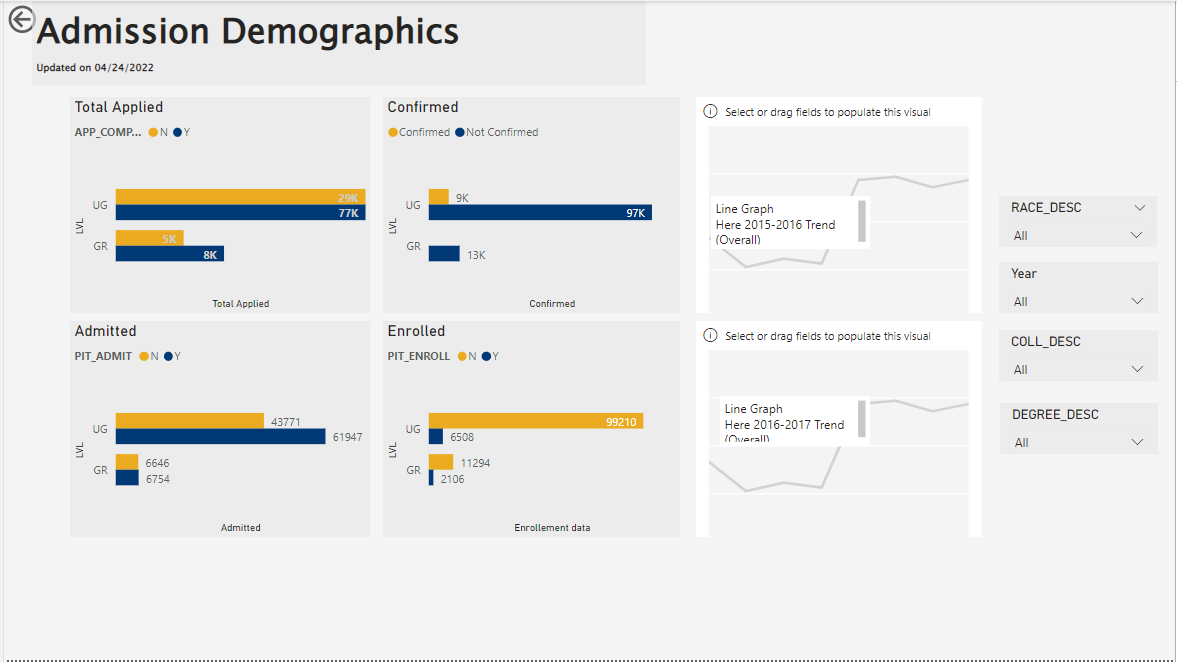

Layout of this report page (visuals, bound fields, positions):
{"tool":"powerbi","page":{"name":"Duplicate of Duplicate of Page 1","canvas":[1280,720],"ordinal":3},"visuals":[{"type":"card","title":"Total Applied","fields":{"Values":["CountNonNull(Dataset.APP_COMPLETE)"]},"box":[296.8,48.1,232.3,82.1],"z":0},{"type":"card","title":"Confirmed","fields":{"Values":["CountNonNull(Dataset.PIT_RESPONSE_DESC)"]},"box":[658.2,45.8,133.7,84.5],"z":1000},{"type":"card","title":"Enrolled","fields":{"Values":["CountNonNull(Dataset.PIT_ENROLL)"]},"box":[796.6,48.1,163.1,82.1],"z":2000},{"type":"slicer","fields":{"Values":["Dataset.APP_COMPLETE_DATE.Variation.Date Hierarchy.Year"]},"box":[998.4,154.9,281.6,82.1],"z":3000},{"type":"card","title":"Admitted","fields":{"Values":["CountNonNull(Dataset.APP_COMPLETE)"]},"box":[486.9,48.1,171.3,82.1],"z":4000},{"type":"clusteredBarChart","fields":{"Category":["Dataset.RACE_DESC"],"Y":["CountNonNull(Dataset.PIT_ENROLL)","CountNonNull(Dataset.APP_COMPLETE)"]},"box":[14.1,123.2,327.3,302.7],"z":6000},{"type":"slicer","fields":{"Values":["Dataset.RACE_DESC"]},"box":[990.2,245.2,281.6,91.5],"z":7000},{"type":"slicer","fields":{"Values":["Dataset.RESIDENCY"]},"box":[998.4,336.7,281.6,89.2],"z":8000},{"type":"slicer","fields":{"Values":["Dataset.FIRST_GEN_DESC"]},"box":[980.8,450.5,299.2,85.6],"z":9000},{"type":"clusteredBarChart","fields":{"Category":["Dataset.APP_COMPLETE_DATE.Variation.Date Hierarchy.Year"],"Y":["CountNonNull(Dataset.FIRST_GEN_DESC)"]},"box":[14.1,432.9,327.3,127.9],"z":10000},{"type":"clusteredBarChart","fields":{"Y":["CountNonNull(Dataset.RESIDENCY)"],"Category":["Dataset.APP_COMPLETE_DATE.Variation.Date Hierarchy.Year"]},"box":[14.1,560.8,327.3,150.2],"z":11000},{"type":"map","fields":{"Category":["Dataset.STATE"]},"box":[341.4,177.2,632.4,366],"z":12000},{"type":"actionButton","box":[14.1,123.2,327.3,54],"z":13000},{"type":"textbox","box":[0,0,279.2,59.8],"z":13001}]}

Visuals, with their boxes in screenshot pixels (x1, y1, x2, y2), scaled from the page's 1280x720 canvas onto the 1177x662 screenshot:
"Total Applied" card: {"x1": 273, "y1": 44, "x2": 487, "y2": 120}
"Confirmed" card: {"x1": 605, "y1": 42, "x2": 728, "y2": 120}
"Enrolled" card: {"x1": 732, "y1": 44, "x2": 882, "y2": 120}
slicer - Dataset.APP_COMPLETE_DATE.Variation.Date Hierarchy.Year: {"x1": 918, "y1": 142, "x2": 1176, "y2": 218}
"Admitted" card: {"x1": 448, "y1": 44, "x2": 605, "y2": 120}
clusteredBarChart - Dataset.RACE_DESC x CountNonNull(Dataset.PIT_ENROLL): {"x1": 13, "y1": 113, "x2": 314, "y2": 392}
slicer - Dataset.RACE_DESC: {"x1": 911, "y1": 225, "x2": 1169, "y2": 310}
slicer - Dataset.RESIDENCY: {"x1": 918, "y1": 310, "x2": 1176, "y2": 392}
slicer - Dataset.FIRST_GEN_DESC: {"x1": 902, "y1": 414, "x2": 1176, "y2": 493}
clusteredBarChart - Dataset.APP_COMPLETE_DATE.Variation.Date Hierarchy.Year x CountNonNull(Dataset.FIRST_GEN_DESC): {"x1": 13, "y1": 398, "x2": 314, "y2": 516}
clusteredBarChart - CountNonNull(Dataset.RESIDENCY) x Dataset.APP_COMPLETE_DATE.Variation.Date Hierarchy.Year: {"x1": 13, "y1": 516, "x2": 314, "y2": 654}
map - Dataset.STATE: {"x1": 314, "y1": 163, "x2": 895, "y2": 499}
actionButton: {"x1": 13, "y1": 113, "x2": 314, "y2": 163}
textbox: {"x1": 0, "y1": 0, "x2": 257, "y2": 55}
